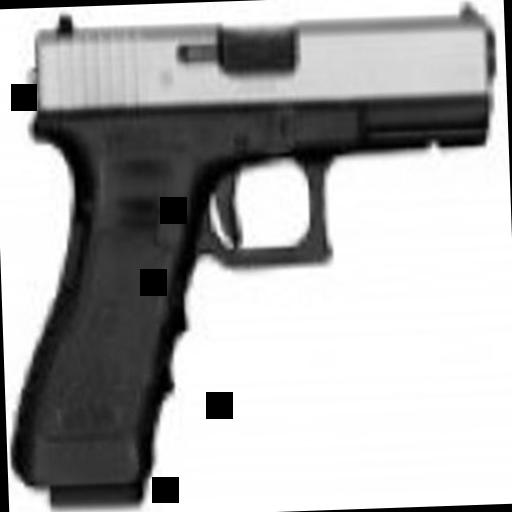Handgun: (0, 0, 508, 480)
